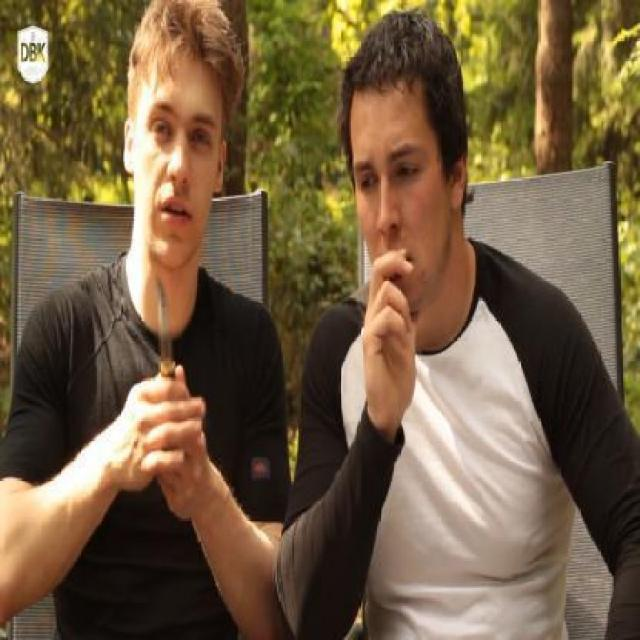-: (142, 262, 199, 445)
